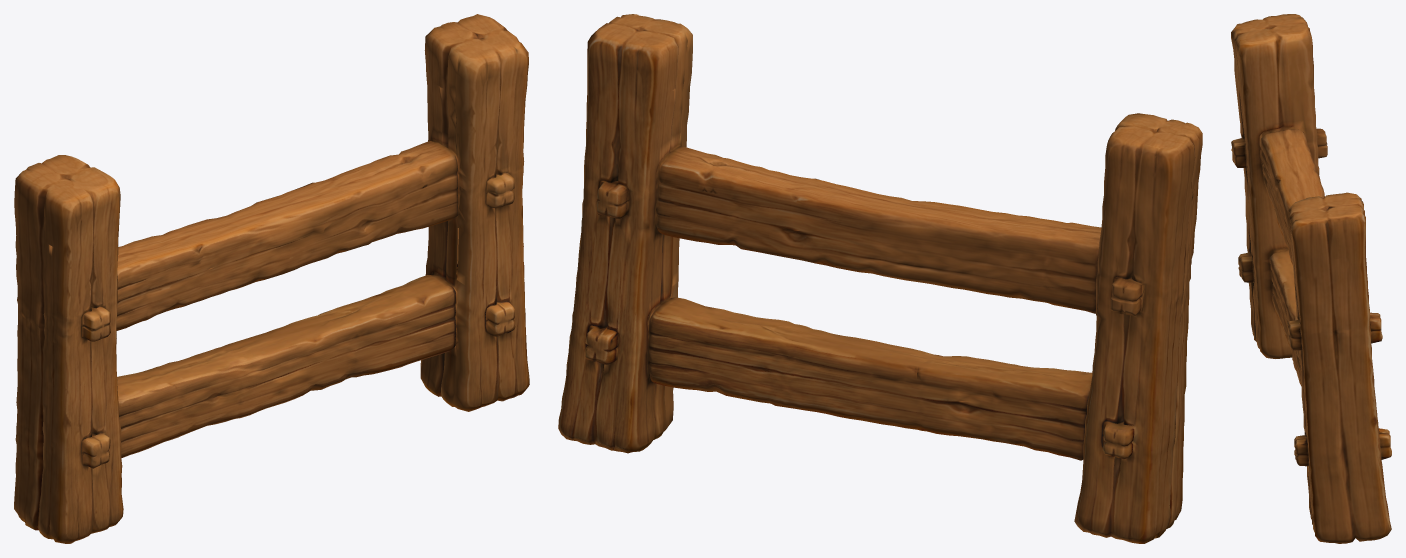
The model's file is fence.glb.
3 views of the same model, side by side, from view 1: azimuth 30°, elevation 25°; view 2: azimuth 150°, elevation 25°; view 3: azimuth 270°, elevation 25° (orthographic). The views are drawn at different scales.
Visible parts, largest first — view 1: tripo_node_530b2864-d898-4ed2-8082-2cb901144246; view 2: tripo_node_530b2864-d898-4ed2-8082-2cb901144246; view 3: tripo_node_530b2864-d898-4ed2-8082-2cb901144246.
Part boxes in pixels (<box>): tripo_node_530b2864-d898-4ed2-8082-2cb901144246: <box>14,14,529,543</box>; tripo_node_530b2864-d898-4ed2-8082-2cb901144246: <box>558,14,1202,543</box>; tripo_node_530b2864-d898-4ed2-8082-2cb901144246: <box>1231,14,1391,543</box>.
Bounding box in the file's own units: 0.9777 × 0.6601 × 0.2966.
Materials: 1 (1 with a texture image).
